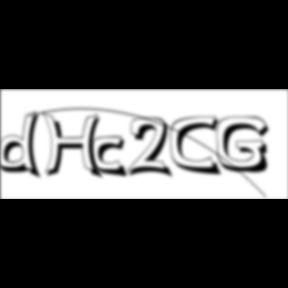2: (127, 117, 177, 181)
C: (170, 115, 226, 178)
G: (216, 116, 276, 176)
H: (42, 112, 108, 182)
c: (92, 136, 132, 180)
d: (0, 110, 48, 182)
